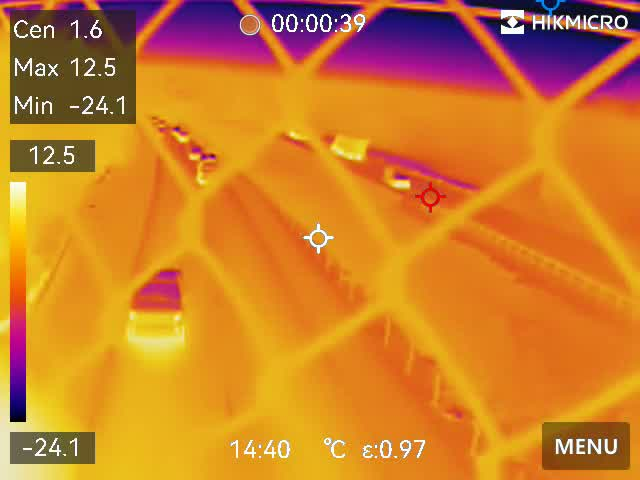vehicle: (132, 265, 189, 365), (325, 128, 374, 165), (199, 153, 224, 192), (382, 168, 413, 192), (186, 144, 204, 162), (172, 129, 193, 144)
